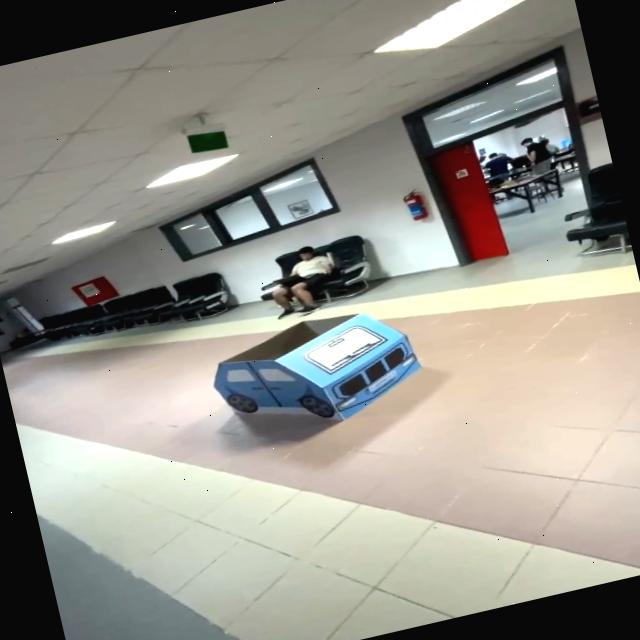blue_car: (174, 282, 459, 458)
